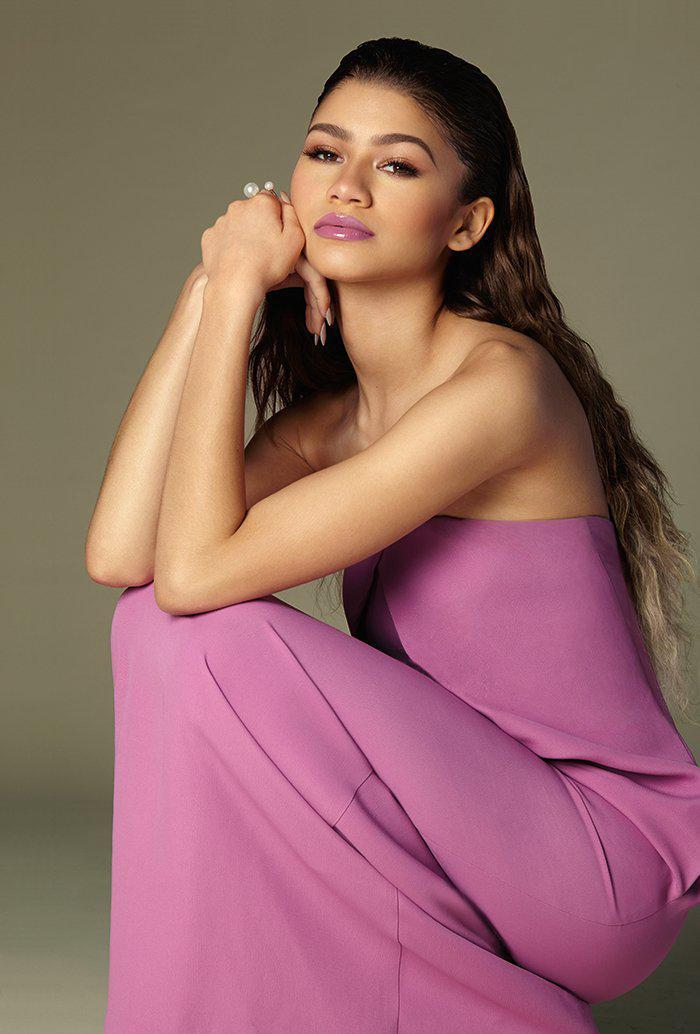Sober: (286, 76, 453, 294)
